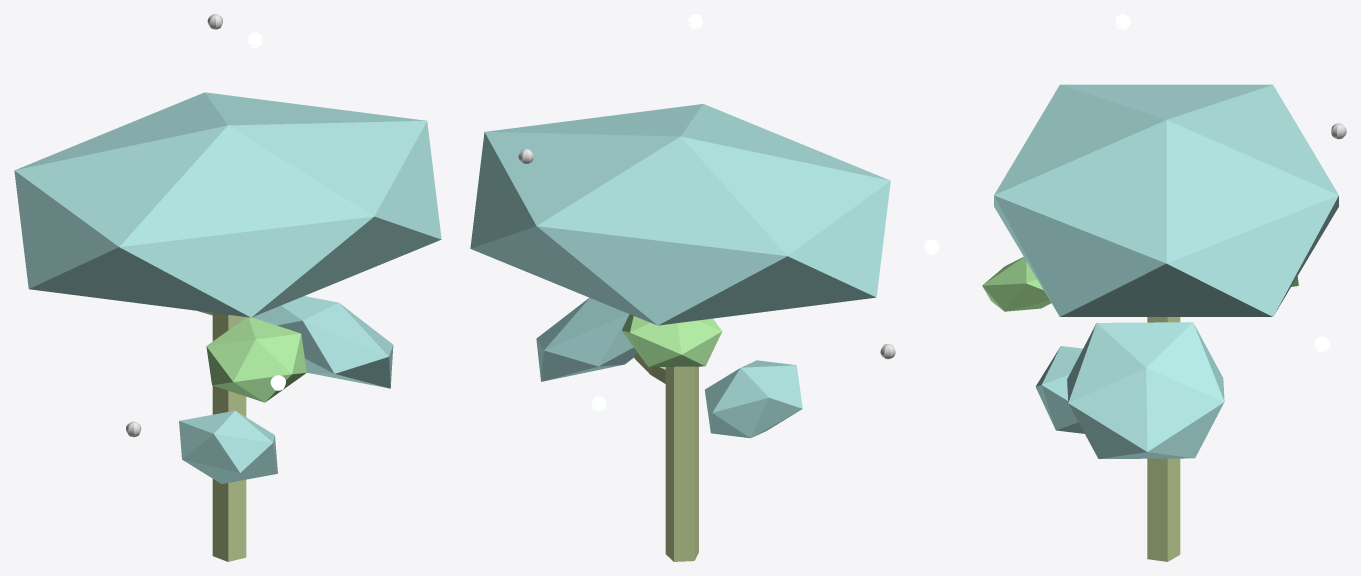
The model's file is Boom 2 GOED QUESTION MARK.fbx.
3 renders of one model, left to right at view 1: azimuth 30°, elevation 25°; view 2: azimuth 150°, elevation 25°; view 3: azimuth 270°, elevation 25°, orthographic. The views are drawn at different scales.
Visible parts, largest first — view 1: Bloom 2 bladeren 1; view 2: Bloom 2 bladeren 1; view 3: Bloom 2 bladeren 1.
Part boxes in pixels (x1,y1,x2,y2): Bloom 2 bladeren 1: (14, 14, 441, 561); Bloom 2 bladeren 1: (470, 14, 895, 561); Bloom 2 bladeren 1: (924, 14, 1346, 561).
Size of the model in its own units: 451 by 578 by 408.
